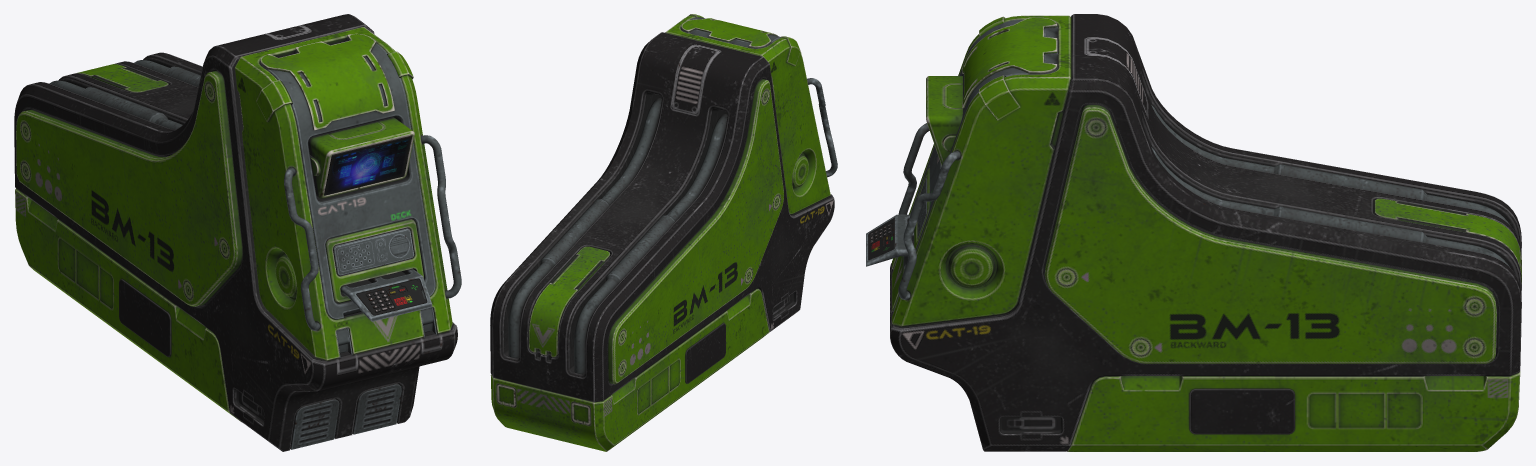
The picture shows the model from 3 angles, left to right: view 1: azimuth 30°, elevation 25°; view 2: azimuth 150°, elevation 25°; view 3: azimuth 270°, elevation 25°; orthographic projection. The views are drawn at different scales.
Parts seen in each view (by area): view 1: main_frame_low, side_panels_low, front_panel_low, bottom_base_low, front_panel_2_low, top_panel_low, display_low, front_boxes_3_low, piepes_low, keyboard_frame_low, keyboard_vent_low, bottom_panels_low (+5 smaller); view 2: main_frame_low, side_panels_low, bottom_base_low, top_pipes_low, front_panel_low, top_small_panel_low, bottom_panels_low, top_panel_low, piepes_low, front_panel_2_low; view 3: main_frame_low, side_panels_low, bottom_base_low, front_panel_low, top_pipes_low, bottom_panels_low, top_panel_low, top_small_panel_low, display_low, piepes_low, front_panel_2_low, keyboard_taper_low (+1 smaller).
Part boxes in pixels (bbox=[...]): main_frame_low: bbox=[14, 14, 457, 451]; side_panels_low: bbox=[16, 70, 242, 306]; front_panel_low: bbox=[235, 27, 452, 360]; bottom_base_low: bbox=[15, 188, 241, 422]; front_panel_2_low: bbox=[259, 37, 435, 319]; top_panel_low: bbox=[260, 33, 394, 130]; display_low: bbox=[308, 117, 414, 198]; front_boxes_3_low: bbox=[290, 383, 401, 449]; piepes_low: bbox=[284, 135, 461, 330]; keyboard_frame_low: bbox=[325, 218, 423, 303]; keyboard_vent_low: bbox=[333, 228, 414, 275]; bottom_panels_low: bbox=[119, 279, 171, 356]; main_frame_low: bbox=[490, 32, 834, 401]; side_panels_low: bbox=[608, 79, 783, 384]; bottom_base_low: bbox=[490, 288, 769, 451]; top_pipes_low: bbox=[508, 98, 727, 373]; front_panel_low: bbox=[665, 14, 830, 214]; top_small_panel_low: bbox=[529, 246, 610, 357]; bottom_panels_low: bbox=[685, 323, 725, 383]; top_panel_low: bbox=[681, 18, 777, 47]; piepes_low: bbox=[807, 78, 837, 177]; front_panel_2_low: bbox=[680, 17, 780, 48]; main_frame_low: bbox=[890, 14, 1521, 451]; side_panels_low: bbox=[1044, 103, 1496, 363]; bottom_base_low: bbox=[1067, 371, 1520, 451]; front_panel_low: bbox=[892, 15, 1071, 326]; top_pipes_low: bbox=[1151, 105, 1509, 266]; bottom_panels_low: bbox=[1189, 388, 1294, 434]; top_panel_low: bbox=[962, 17, 1057, 108]; top_small_panel_low: bbox=[1374, 198, 1521, 283]; display_low: bbox=[926, 76, 962, 165]; piepes_low: bbox=[898, 123, 960, 299]; front_panel_2_low: bbox=[903, 19, 1058, 269]; keyboard_taper_low: bbox=[866, 214, 913, 266].
Bounding box in the file's own units: 1.16 × 2.56 × 4.05.
1 material, 1 textured.
